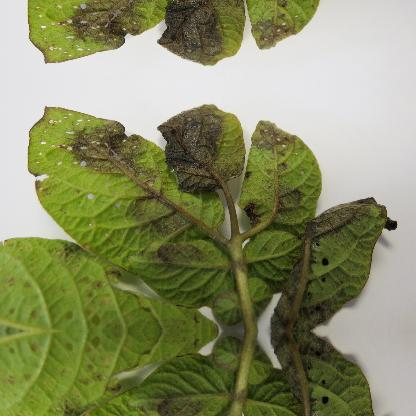Early-Blight: (13, 98, 224, 242), (264, 180, 402, 330), (13, 0, 224, 70), (244, 111, 336, 239), (264, 331, 401, 416), (148, 96, 250, 202), (133, 228, 251, 314), (133, 347, 251, 416), (148, 0, 250, 72), (244, 0, 336, 57)
